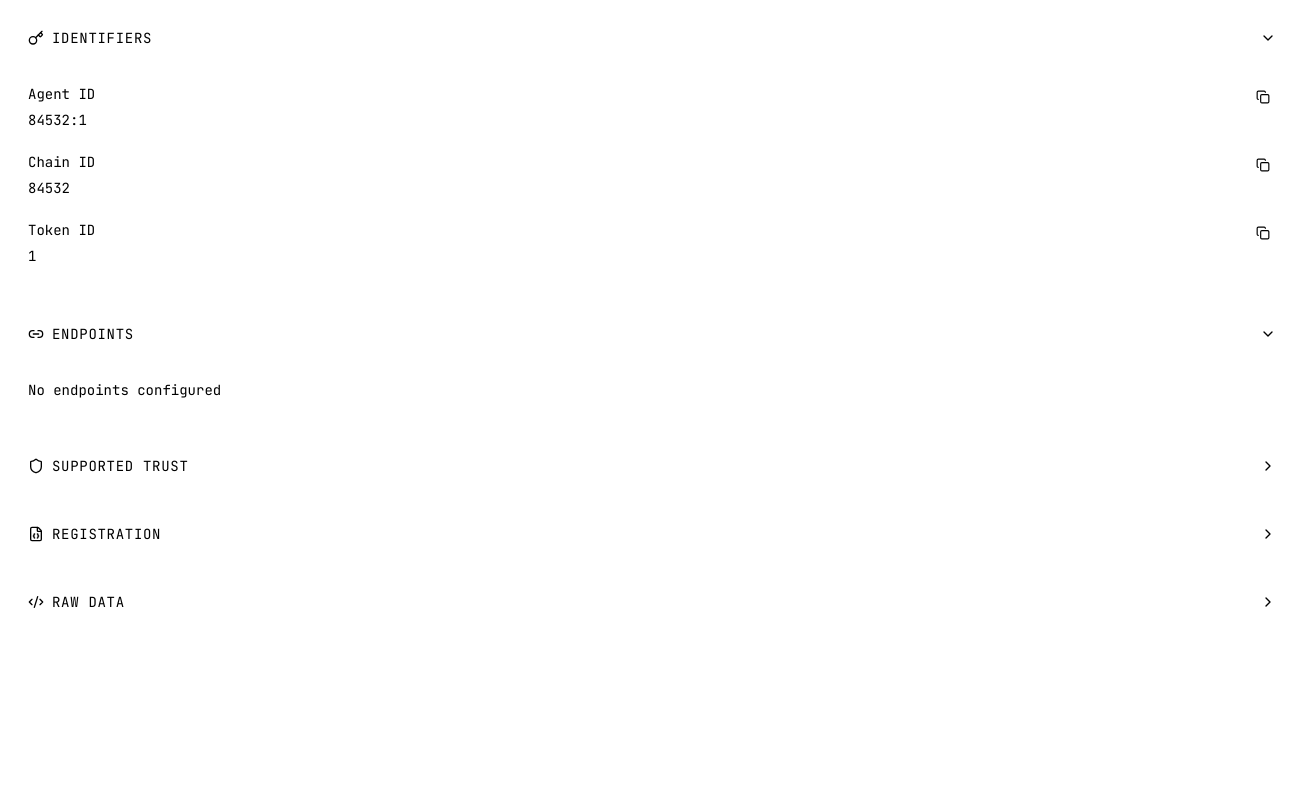
Test: AgentMetadata › registration section › shows inactive status
Click the button "Registration": (107, 534) [12,508,1292,560]
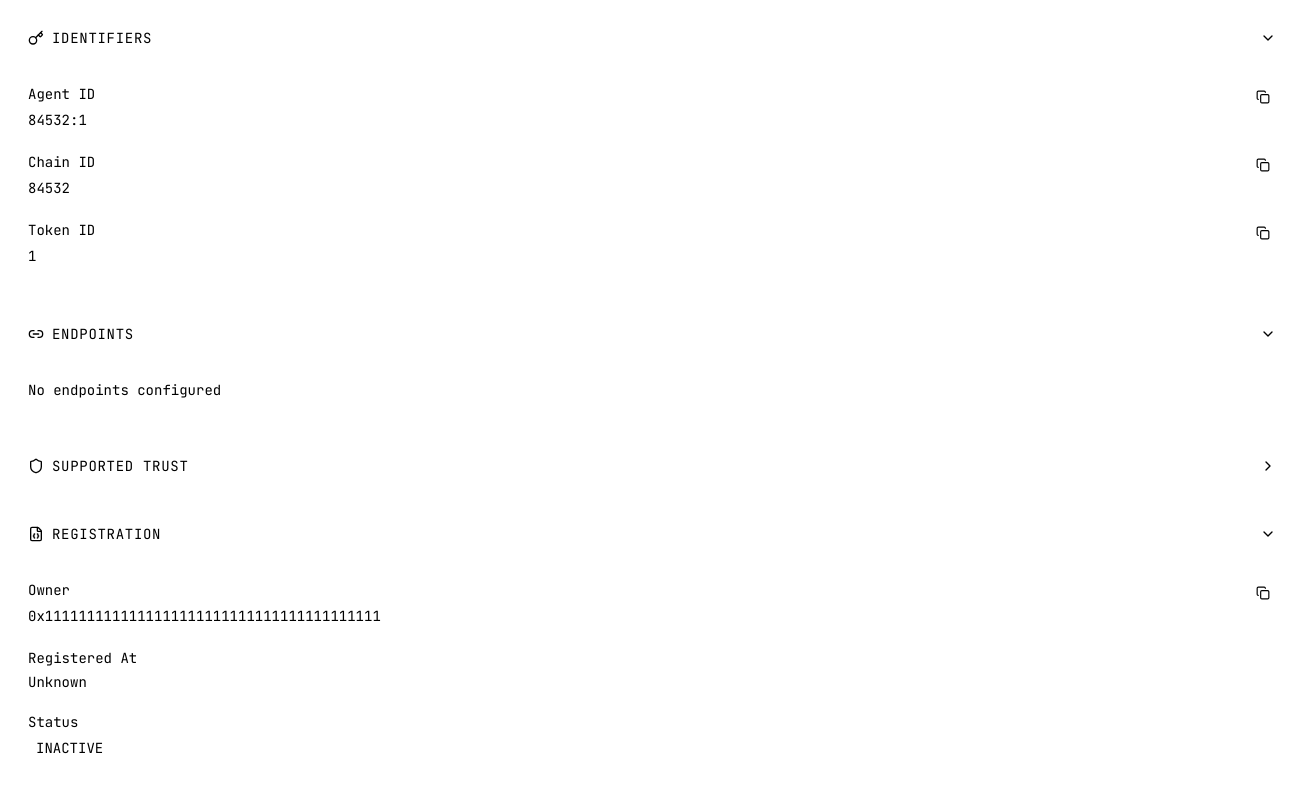
Expected: the text "INACTIVE" is shown, [36,739,103,757]
